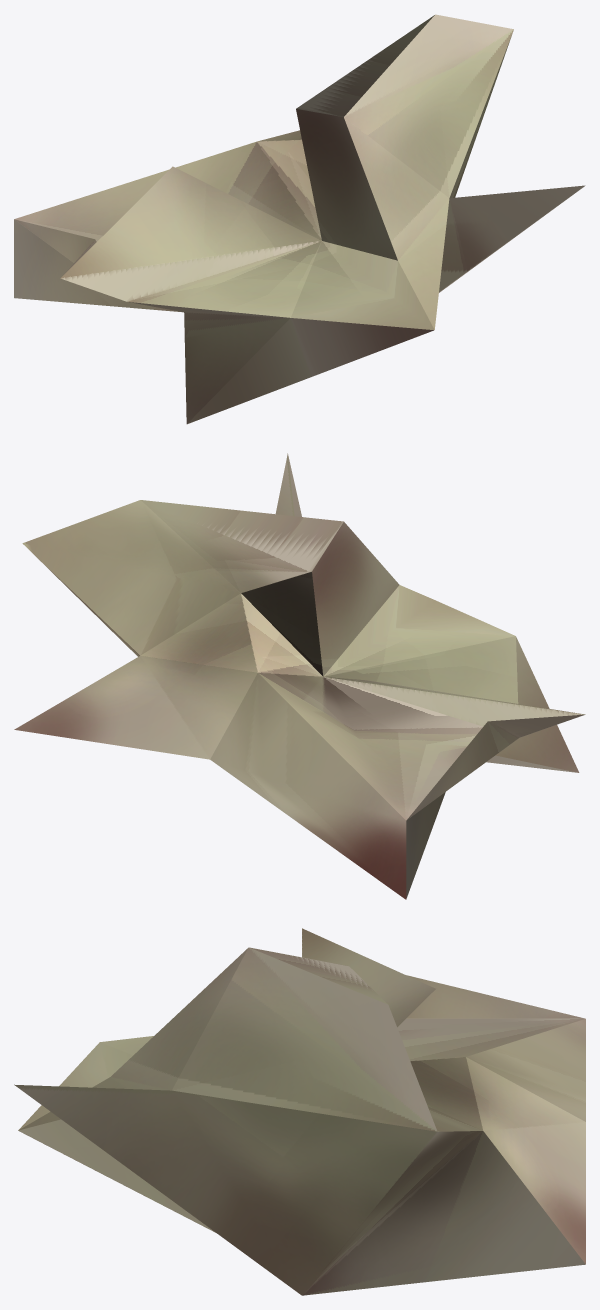
Rendered from servett.glb.
3 renders of one model, top to bottom at view 1: azimuth 30°, elevation 25°; view 2: azimuth 150°, elevation 25°; view 3: azimuth 270°, elevation 25°, orthographic. The views are drawn at different scales.
Parts seen in each view (by area): view 1: node_id4; view 2: node_id4; view 3: node_id4.
Part boxes in pixels (box(x1,y1,x2,y2)): node_id4: box(14, 14, 585, 424); node_id4: box(14, 453, 585, 899); node_id4: box(14, 928, 585, 1295).
Size of the model in its own units: 0.512 by 0.2481 by 0.3968.
Materials: 1 (1 with a texture image).
